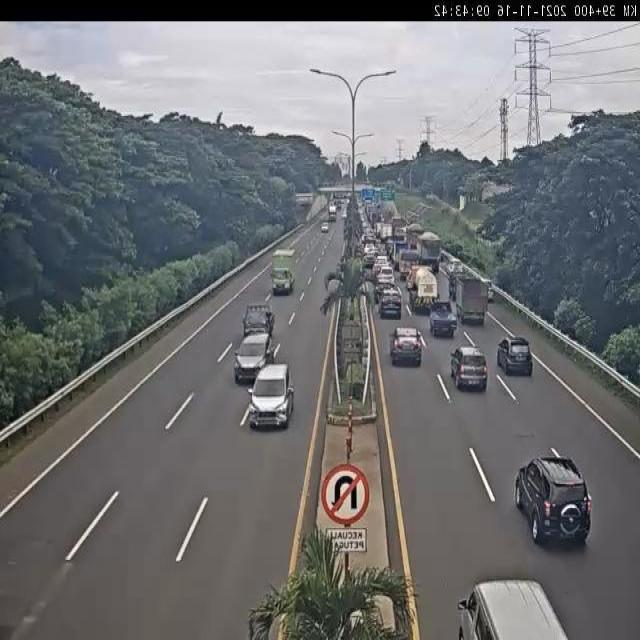Car: (515, 452, 593, 546), (456, 578, 575, 638), (247, 363, 294, 430), (234, 331, 278, 384), (450, 345, 489, 392), (497, 336, 532, 376), (388, 326, 422, 366), (242, 302, 276, 339), (429, 301, 458, 336), (378, 288, 403, 319), (374, 273, 398, 302), (398, 258, 414, 281), (364, 264, 380, 285), (362, 250, 377, 269), (372, 261, 386, 281), (374, 254, 390, 270), (363, 242, 376, 257), (487, 282, 494, 303), (321, 223, 329, 233)
Truck: (455, 276, 487, 324), (408, 265, 439, 310), (270, 247, 296, 296), (416, 232, 442, 271)
